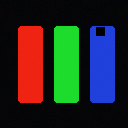1 square: (96, 27, 104, 35)
